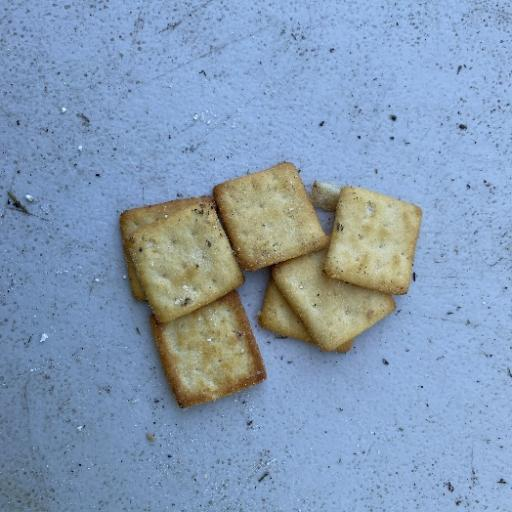Waste: (117, 160, 423, 410), (120, 196, 244, 324), (148, 290, 266, 410), (211, 160, 328, 273), (322, 183, 423, 296)
